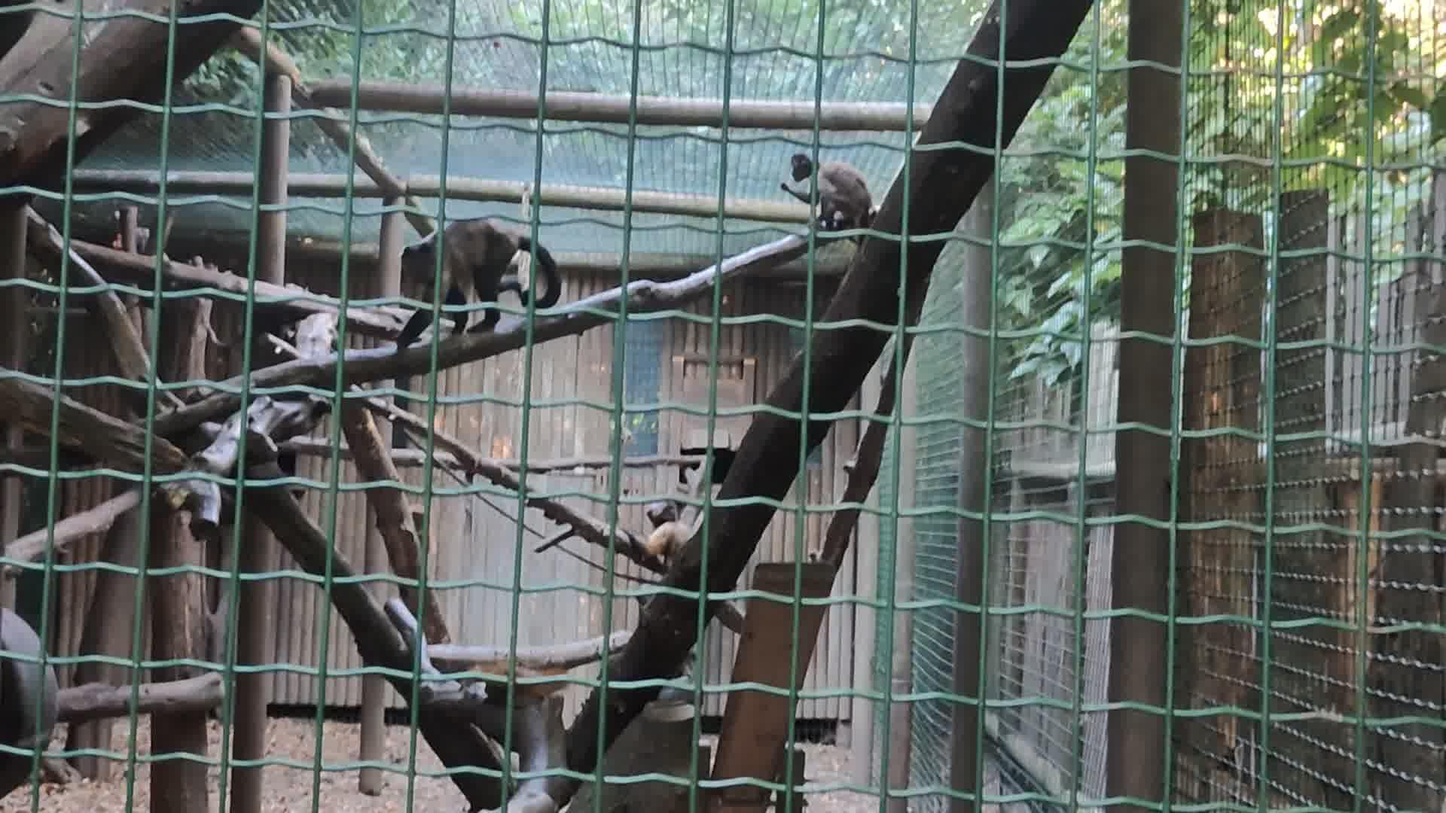boar: (396, 218, 561, 349), (780, 153, 880, 246)
